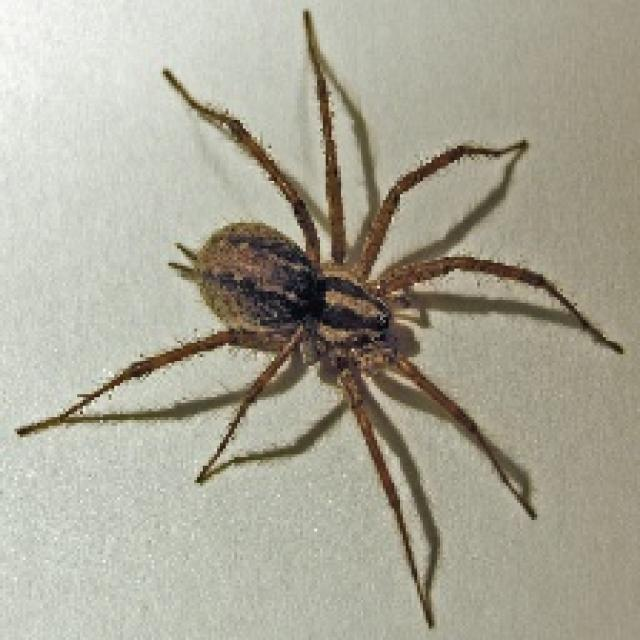Non venomous spider: (27, 19, 602, 586)
